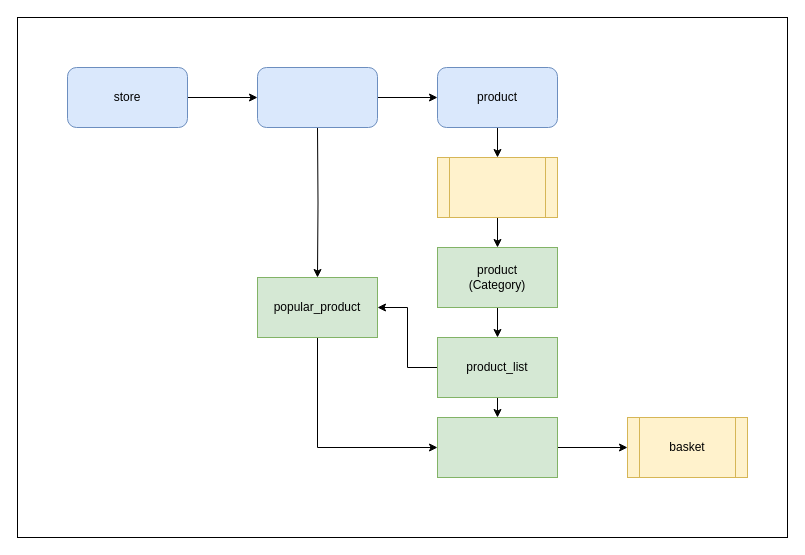
This 805x555 diagram has some shape labels left out. Each missing label, with the centre of its shape:
"catalog" goes at (497,187).
"home(face)" goes at (317,97).
"product_detail" goes at (497,447).
